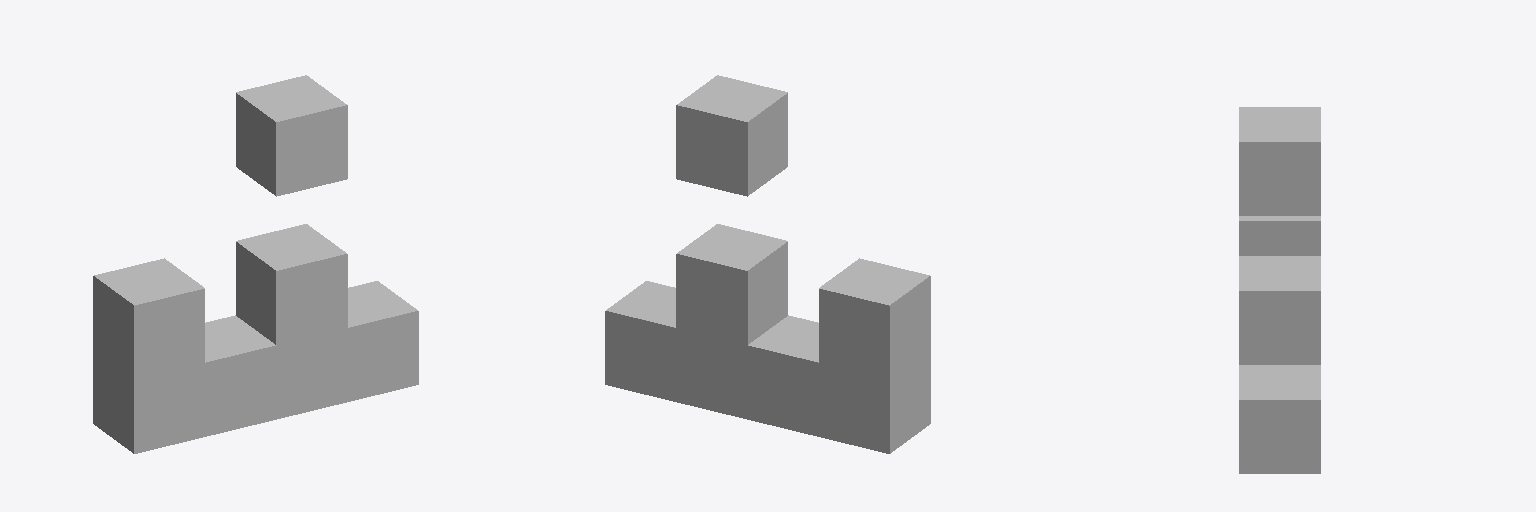
Rendered from particle_fire1.obj.
The picture shows the model from 3 angles: view 1: azimuth 30°, elevation 25°; view 2: azimuth 150°, elevation 25°; view 3: azimuth 270°, elevation 25°; orthographic projection.
Parts seen in each view (by area): view 1: object 1; view 2: object 1; view 3: object 1.
Part boxes in pixels (x1,y1,x2,y2): object 1: (93,75,418,453); object 1: (605,75,930,453); object 1: (1239,107,1320,473).
Bounding box in the file's own units: 0.4 × 0.4 × 0.1.